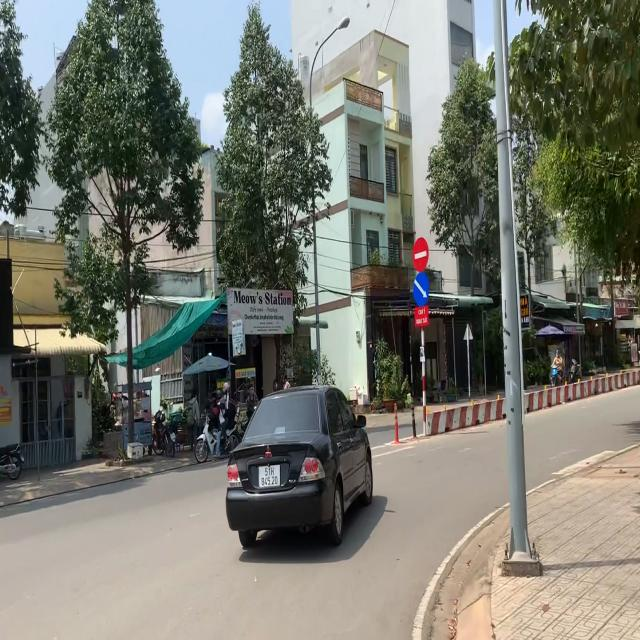Cam nguoc chieu: (411, 235, 430, 273)
Hieu lenh: (413, 269, 429, 308)
